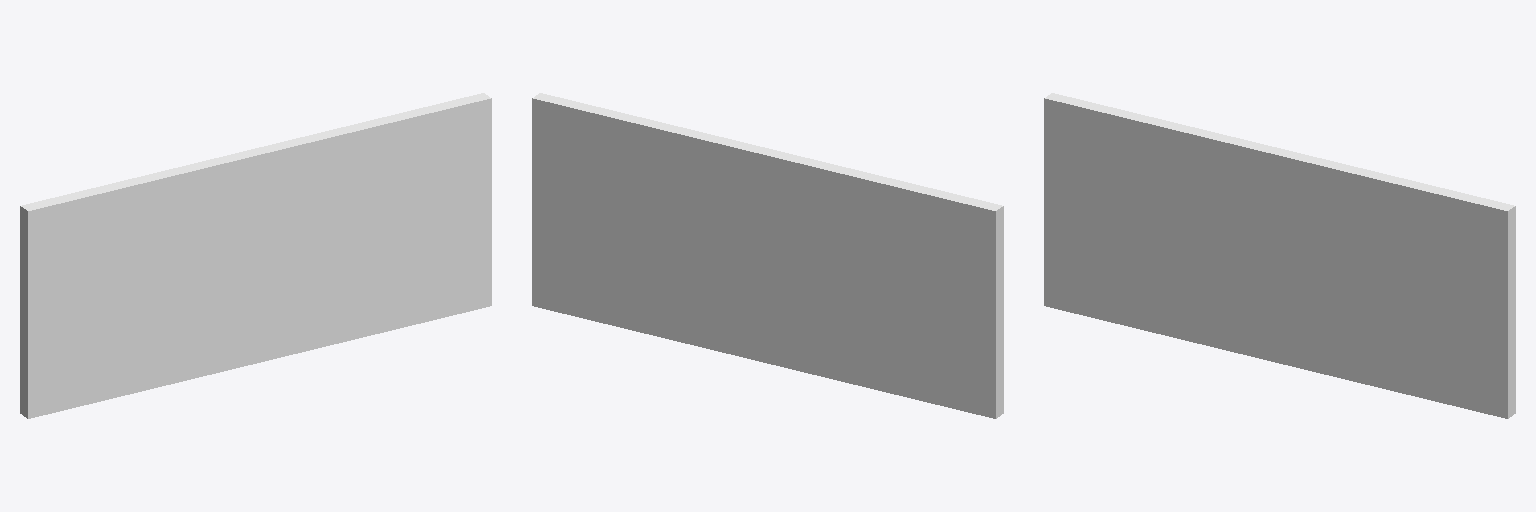
URDF robot description (left_top_door):
<?xml version="1.0" ?>
<robot name="left_top_door">
 <link name="baseLink">
   <contact>
     <lateral_friction value="0.5"/>
   </contact>
   <inertial>
     <origin rpy="0 0 0" xyz="1.05 0.41 1.19"/>
      <mass value="1.0"/>
      <inertia ixx="0.000032" ixy="-0.000000" ixz="0.000000" iyy="0.000203" iyz="-0.000000" izz="0.000172"/>
   </inertial>
   <visual>
     <origin rpy="0 0 0" xyz="0 0 0"/>
     <geometry>
       <mesh filename="left_top_door.obj" scale="1.0 1.0 1.0"/>
     </geometry>
      <material name="white">
       <color rgba="1 1 1 1"/>
     </material>
   </visual>
   <collision>
     <origin rpy="0 0 0" xyz="0 0 0"/>
     <geometry>
       <mesh filename="left_top_door.obj" scale="1.0 1.0 1.0"/>
     </geometry>
   </collision>
 </link>
</robot>

--- Facts derived from the render (not from the file) ---
Views: 3 orthographic renders of the robot side by side, from view 1: azimuth 30°, elevation 25°; view 2: azimuth 150°, elevation 25°; view 3: azimuth 330°, elevation 25°.
Robot: left_top_door — 1 links, 0 joints (none); root link baseLink; default pose: all joints at 0.
Links seen in each view (by area): view 1: baseLink; view 2: baseLink; view 3: baseLink.
Link boxes in pixels (x1,y1,x2,y2): baseLink: [20, 93, 491, 418]; baseLink: [532, 93, 1003, 418]; baseLink: [1044, 93, 1515, 418].
Bounding box of the posed robot: 0.7 × 0.02 × 0.3 m (x, y, z).
1 mesh visuals loaded from 1 distinct referenced files (1 OBJ).